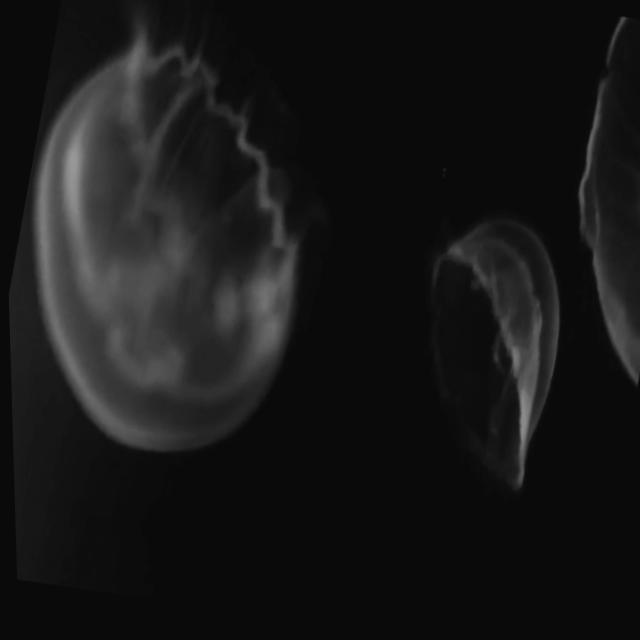Moon-jellyfish: (30, 39, 297, 452), (427, 219, 557, 496), (577, 24, 640, 395)
